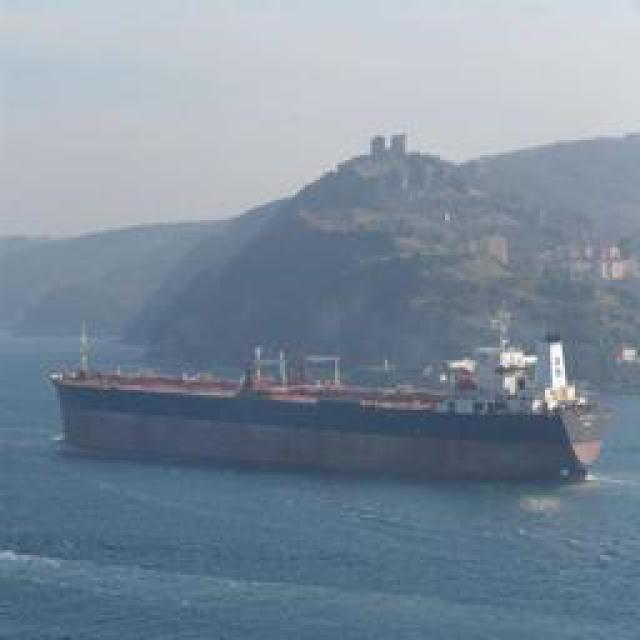Ship: (39, 340, 609, 480)
